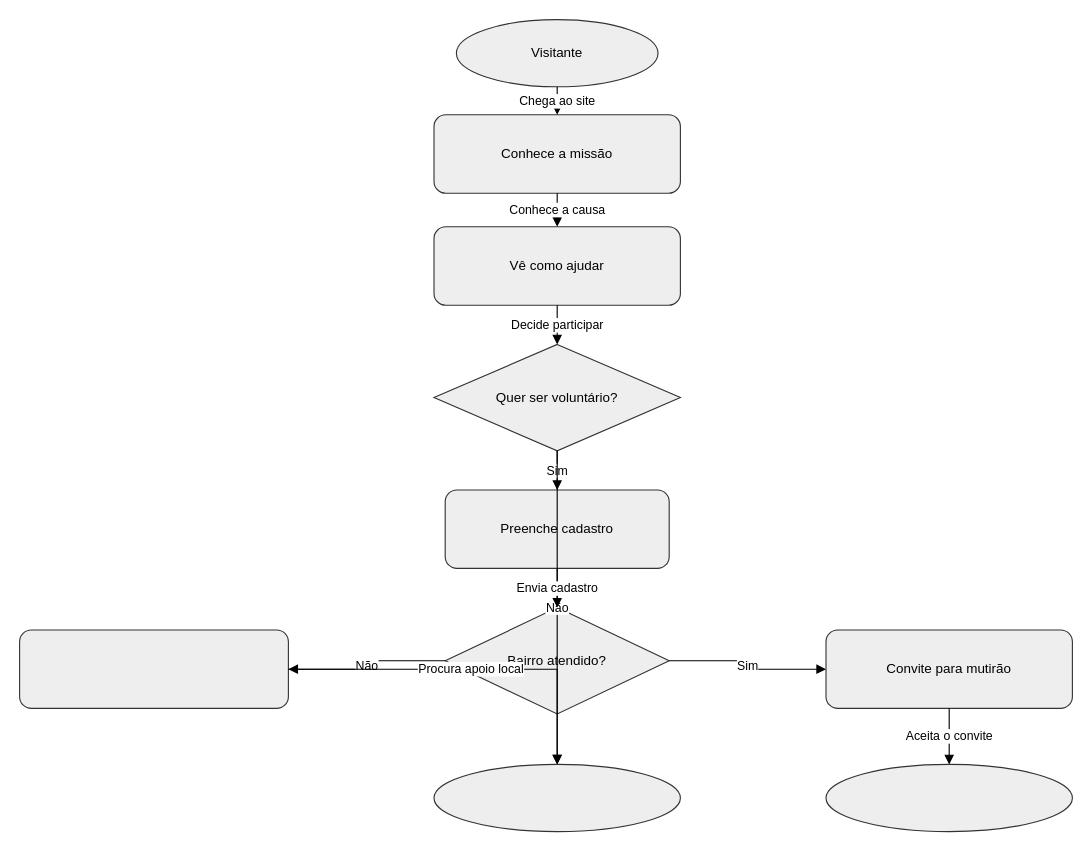
The diagram is 1092 pixels wide and 851 high, and some of its shapes have lost their labels. Each missing label, with the centre of its shape:
Fim: próximo mutirão: [948,797]
Fim: visitante informado: [556,797]
Indicação de ONG parceira: [153,668]
